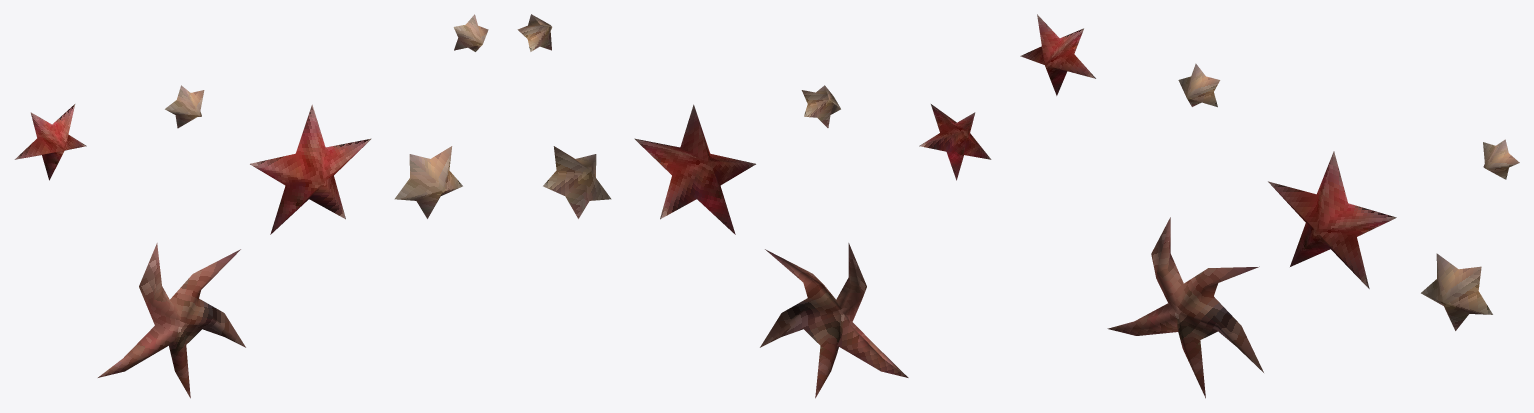
3 renders of one model, left to right at view 1: azimuth 30°, elevation 25°; view 2: azimuth 150°, elevation 25°; view 3: azimuth 330°, elevation 25°, orthographic. The views are drawn at different scales.
Visible parts, largest first — view 1: model_Object05; view 2: model_Object05; view 3: model_Object05.
Boxes of the visible parts, box(x1,y1,x2,y2) form: model_Object05: box(14, 14, 488, 398); model_Object05: box(517, 14, 991, 398); model_Object05: box(1020, 14, 1519, 398).
Bounding box in the file's own units: 2.53 × 1.66 × 0.1251.
Materials: 1 (1 with a texture image).
